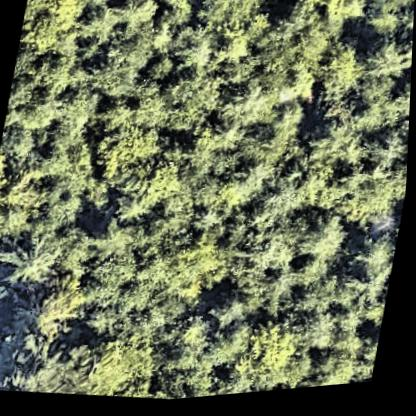tree-top: (244, 0, 336, 101), (161, 318, 251, 404), (5, 44, 81, 132), (288, 204, 361, 288), (16, 271, 91, 344), (12, 335, 96, 399), (90, 336, 165, 406), (0, 151, 49, 249), (88, 42, 154, 112), (94, 121, 166, 182), (166, 239, 235, 302), (303, 120, 375, 179), (225, 224, 288, 290), (314, 39, 371, 109), (19, 0, 85, 57), (0, 231, 59, 292), (244, 321, 303, 381), (196, 0, 274, 43), (354, 235, 400, 307), (89, 246, 147, 303), (255, 180, 308, 232), (266, 93, 311, 153), (222, 75, 272, 128), (177, 25, 221, 81), (105, 0, 161, 43), (297, 312, 345, 361), (369, 130, 410, 181), (366, 45, 408, 93), (209, 292, 254, 336), (81, 169, 118, 218), (141, 51, 184, 91), (115, 192, 156, 231), (209, 119, 249, 158), (189, 206, 228, 243), (85, 306, 116, 341), (397, 5, 415, 47)
